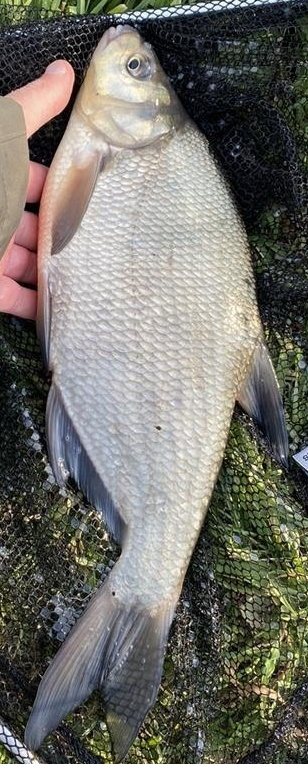Abramis brama: (20, 20, 288, 744)
